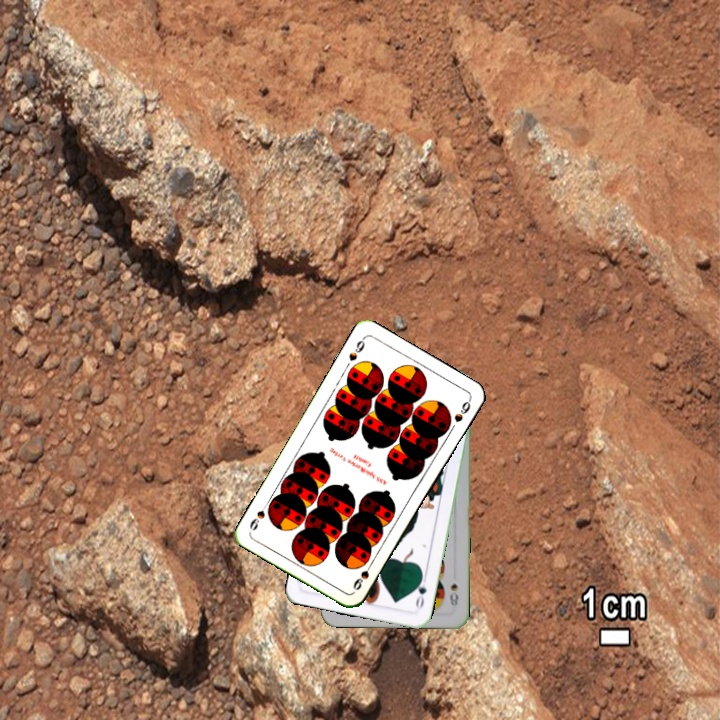GO: (411, 572, 429, 612)
S8: (446, 580, 461, 610)
S9: (349, 557, 376, 593), (345, 333, 367, 364)
